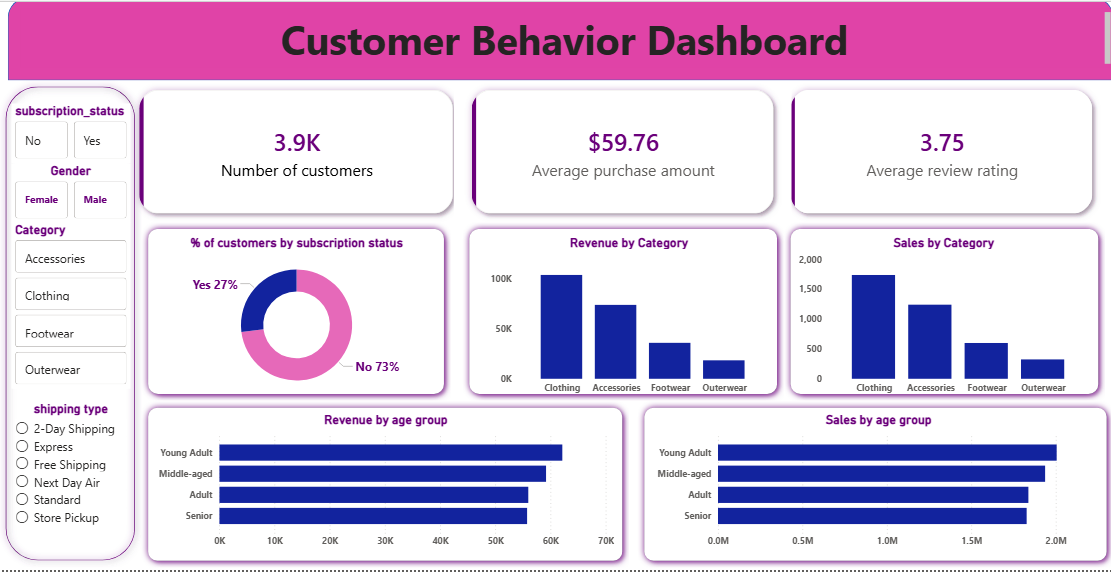

This screenshot's page, from the dashboard's own definition file:
{"tool":"powerbi","page":{"name":"Page 1","canvas":[1500,820],"ordinal":0},"visuals":[{"type":"cardVisual","fields":{"Data":["customer_behavior customer.Number of customers"]},"box":[160,144,480,224],"z":0},{"type":"cardVisual","fields":{"Data":["customer_behavior customer.Average review rating"]},"box":[1036,144,464,224],"z":1000},{"type":"cardVisual","fields":{"Data":["customer_behavior customer.Average purchase amount"]},"box":[608,144,464,224],"z":2000},{"type":"shape","box":[12,48,1488,112],"z":3000},{"type":"textbox","box":[28,64,1472,80],"z":4000},{"type":"shape","box":[624,352,432,240],"z":5000},{"type":"shape","box":[1056,352,432,240],"z":6000},{"type":"shape","box":[192,352,416,240],"z":7000},{"type":"clusteredColumnChart","title":"Revenue by Category","fields":{"Y":["Sum(customer_behavior customer.purchase_amount)"],"Category":["customer_behavior customer.category"]},"box":[656,368,384,224],"z":8000},{"type":"donutChart","title":"% of customers by subscription status","fields":{"Y":["CountNonNull(customer_behavior customer.purchase_amount)"],"Category":["customer_behavior customer.subscription_status"]},"box":[208,368,384,224],"z":9000},{"type":"clusteredColumnChart","title":"Sales by Category","fields":{"Category":["customer_behavior customer.category"],"Y":["CountNonNull(customer_behavior customer.customer_id)"]},"box":[1072,368,400,224],"z":10000},{"type":"shape","box":[0,160,192,656],"z":11000},{"type":"advancedSlicerVisual","fields":{"Values":["customer_behavior customer.subscription_status"]},"box":[16,192,160,80],"z":12000},{"type":"advancedSlicerVisual","title":"Gender","fields":{"Values":["customer_behavior customer.gender"]},"box":[16,272,160,80],"z":13000},{"type":"advancedSlicerVisual","title":"Category","fields":{"Values":["customer_behavior customer.category"]},"box":[16,352,160,224],"z":14000},{"type":"listSlicer","title":"shipping type","fields":{"Values":["customer_behavior customer.shipping_type"]},"box":[16,592,160,224],"z":15000},{"type":"shape","box":[192,592,656,224],"z":16000},{"type":"clusteredBarChart","title":"Revenue by age group","fields":{"Y":["Sum(customer_behavior customer.purchase_amount)"],"Category":["customer_behavior customer.age_group"]},"box":[208,608,624,192],"z":17000},{"type":"shape","box":[860,592,640,224],"z":18000},{"type":"clusteredBarChart","title":"Sales by age group","fields":{"Category":["customer_behavior customer.age_group"],"Y":["Sum(customer_behavior customer.customer_id)"]},"box":[880,608,608,192],"z":19000}]}

Visuals, with their boxes in screenshot pixels (x1, y1, x2, y2):
cardVisual - customer_behavior customer.Number of customers: [x1=116, y1=72, x2=471, y2=238]
cardVisual - customer_behavior customer.Average review rating: [x1=764, y1=72, x2=1108, y2=238]
cardVisual - customer_behavior customer.Average purchase amount: [x1=447, y1=72, x2=791, y2=238]
shape: [x1=6, y1=1, x2=1108, y2=84]
textbox: [x1=18, y1=13, x2=1108, y2=72]
shape: [x1=459, y1=226, x2=779, y2=404]
shape: [x1=779, y1=226, x2=1099, y2=404]
shape: [x1=139, y1=226, x2=447, y2=404]
"Revenue by Category" clusteredColumnChart: [x1=483, y1=238, x2=767, y2=404]
"% of customers by subscription status" donutChart: [x1=151, y1=238, x2=436, y2=404]
"Sales by Category" clusteredColumnChart: [x1=791, y1=238, x2=1087, y2=404]
shape: [x1=0, y1=84, x2=139, y2=570]
advancedSlicerVisual - customer_behavior customer.subscription_status: [x1=9, y1=107, x2=127, y2=167]
"Gender" advancedSlicerVisual: [x1=9, y1=167, x2=127, y2=226]
"Category" advancedSlicerVisual: [x1=9, y1=226, x2=127, y2=392]
"shipping type" listSlicer: [x1=9, y1=404, x2=127, y2=570]
shape: [x1=139, y1=404, x2=625, y2=570]
"Revenue by age group" clusteredBarChart: [x1=151, y1=416, x2=613, y2=558]
shape: [x1=634, y1=404, x2=1108, y2=570]
"Sales by age group" clusteredBarChart: [x1=649, y1=416, x2=1099, y2=558]
